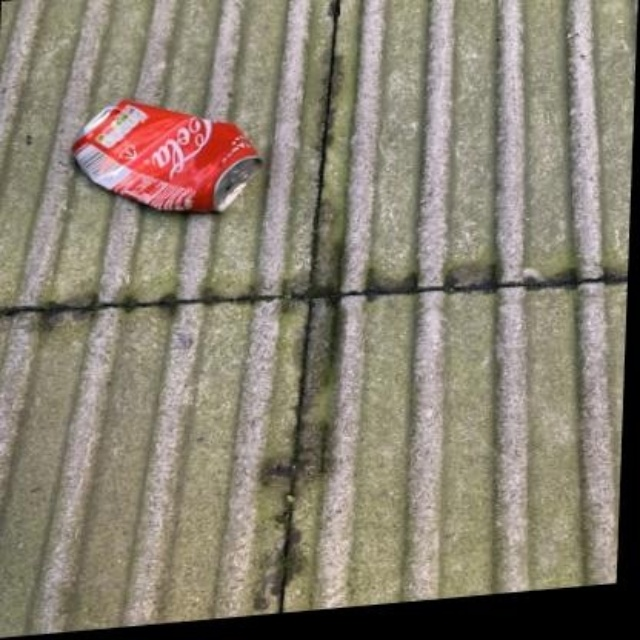trash: (72, 100, 260, 211)
